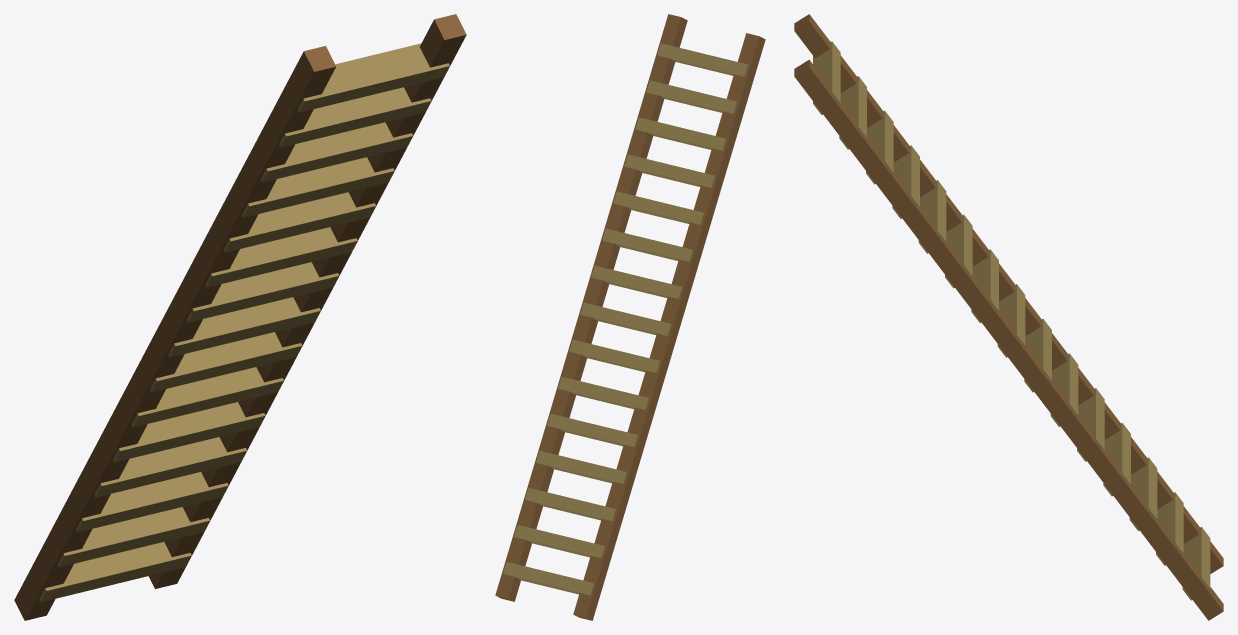
File: ladder_7.25.glb
3 views of the same model, side by side, from view 1: azimuth 30°, elevation 25°; view 2: azimuth 150°, elevation 25°; view 3: azimuth 270°, elevation 25° (orthographic). The views are drawn at different scales.
Parts seen in each view (by area): view 1: part_0, part_1, part_16, part_13, part_6, part_4, part_5, part_10, part_15, part_7, part_11, part_2 (+5 smaller); view 2: part_0, part_1, part_12, part_13, part_2, part_3, part_7, part_14, part_4, part_15, part_16, part_6 (+5 smaller); view 3: part_1, part_0, part_2, part_7, part_12, part_4, part_9, part_16, part_14, part_6, part_3, part_11 (+5 smaller).
Part boxes in pixels (box(x1,y1,x2,y2)): part_0: box(14, 46, 336, 620); part_1: box(148, 14, 466, 588); part_16: box(297, 43, 449, 112); part_13: box(242, 157, 394, 217); part_6: box(113, 402, 265, 462); part_4: box(76, 472, 228, 532); part_5: box(94, 437, 247, 497); part_10: box(186, 262, 339, 322); part_15: box(279, 87, 431, 147); part_7: box(131, 367, 283, 427); part_11: box(205, 227, 357, 287); part_2: box(39, 542, 191, 602); part_0: box(573, 33, 765, 620); part_1: box(495, 14, 687, 601); part_12: box(613, 191, 704, 224); part_13: box(624, 154, 715, 187); part_2: box(503, 562, 594, 595); part_3: box(514, 525, 605, 558); part_7: box(558, 376, 649, 410); part_14: box(635, 117, 726, 150); part_4: box(525, 488, 616, 521); part_15: box(646, 80, 737, 113); part_16: box(657, 43, 748, 76); part_6: box(547, 414, 638, 447); part_1: box(794, 59, 1223, 620); part_0: box(794, 14, 1223, 573); part_2: box(1182, 527, 1210, 600); part_7: box(1050, 353, 1078, 426); part_12: box(918, 180, 946, 253); part_4: box(1129, 457, 1157, 530); part_9: box(997, 284, 1025, 357); part_16: box(813, 41, 840, 114); part_14: box(866, 111, 893, 184); part_6: box(1077, 388, 1104, 461); part_3: box(1156, 492, 1183, 565); part_11: box(945, 215, 972, 288).
Bounding box in the file's own units: 1.52 × 7.37 × 5.18.
